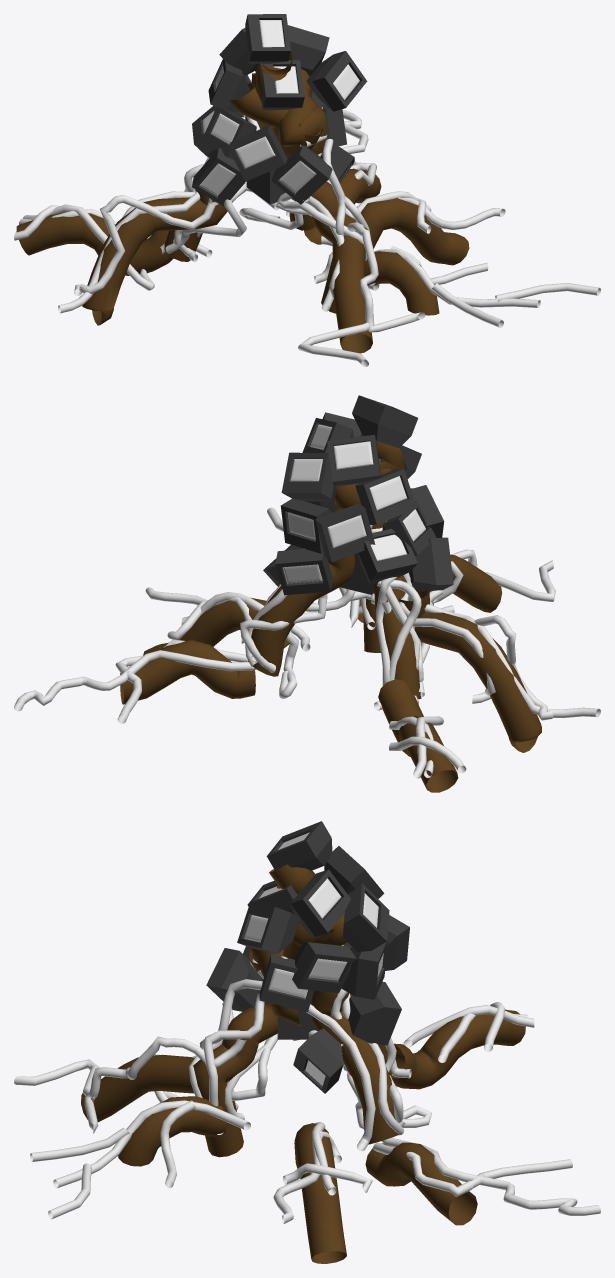
File: tower.fbx
3 renders of one model, top to bottom at view 1: azimuth 30°, elevation 25°; view 2: azimuth 150°, elevation 25°; view 3: azimuth 270°, elevation 25°, orthographic. The views are drawn at different scales.
Visible parts, largest first — view 1: root.thic, root.mid, tv.010, tv.014, tv.006, tv.016, tv.013, tv.015, tv.009, tv.002, tv.005, tv.017 (+11 smaller); view 2: root.thic, root.mid, tv.014, tv.002, tv, tv.012, tv.004, tv.001, tv.013, tv.017, tv.003, tv.005 (+10 smaller); view 3: root.thic, root.mid, tv, tv.014, tv.012, tv.011, tv.006, tv.008, tv.015, tv.010, tv.003, tv.017 (+7 smaller).
Boxes of the visible parts, x1,y1,x2,y2 form: root.thic: (16,51,469,353); root.mid: (14,107,600,366); tv.010: (306,51,367,111); tv.014: (245,14,290,63); tv.006: (271,145,332,204); tv.016: (228,125,287,181); tv.013: (208,59,249,112); tv.015: (287,25,329,75); tv.009: (261,60,304,110); tv.002: (192,148,245,206); tv.005: (201,107,256,159); tv.017: (219,28,257,75); root.thic: (120,441,541,792); root.mid: (14,507,600,778); tv.014: (352,395,418,448); tv.002: (409,537,453,591); tv: (275,549,332,595); tv.012: (281,452,336,501); tv.004: (315,503,375,562); tv.001: (357,528,417,584); tv.013: (355,469,416,524); tv.017: (327,434,380,485); tv.003: (280,498,332,553); tv.005: (382,501,436,556); root.thic: (81,864,525,1263); root.mid: (14,945,600,1223); tv: (348,981,401,1045); tv.014: (266,821,332,870); tv.012: (342,883,389,951); tv.011: (292,942,356,993); tv.006: (206,948,262,1011); tv.008: (293,1028,343,1093); tv.015: (290,869,350,936); tv.010: (237,901,299,953); tv.003: (341,938,387,999); tv.017: (324,846,384,898).
Size of the model in its own units: 1899 by 1255 by 2000.
